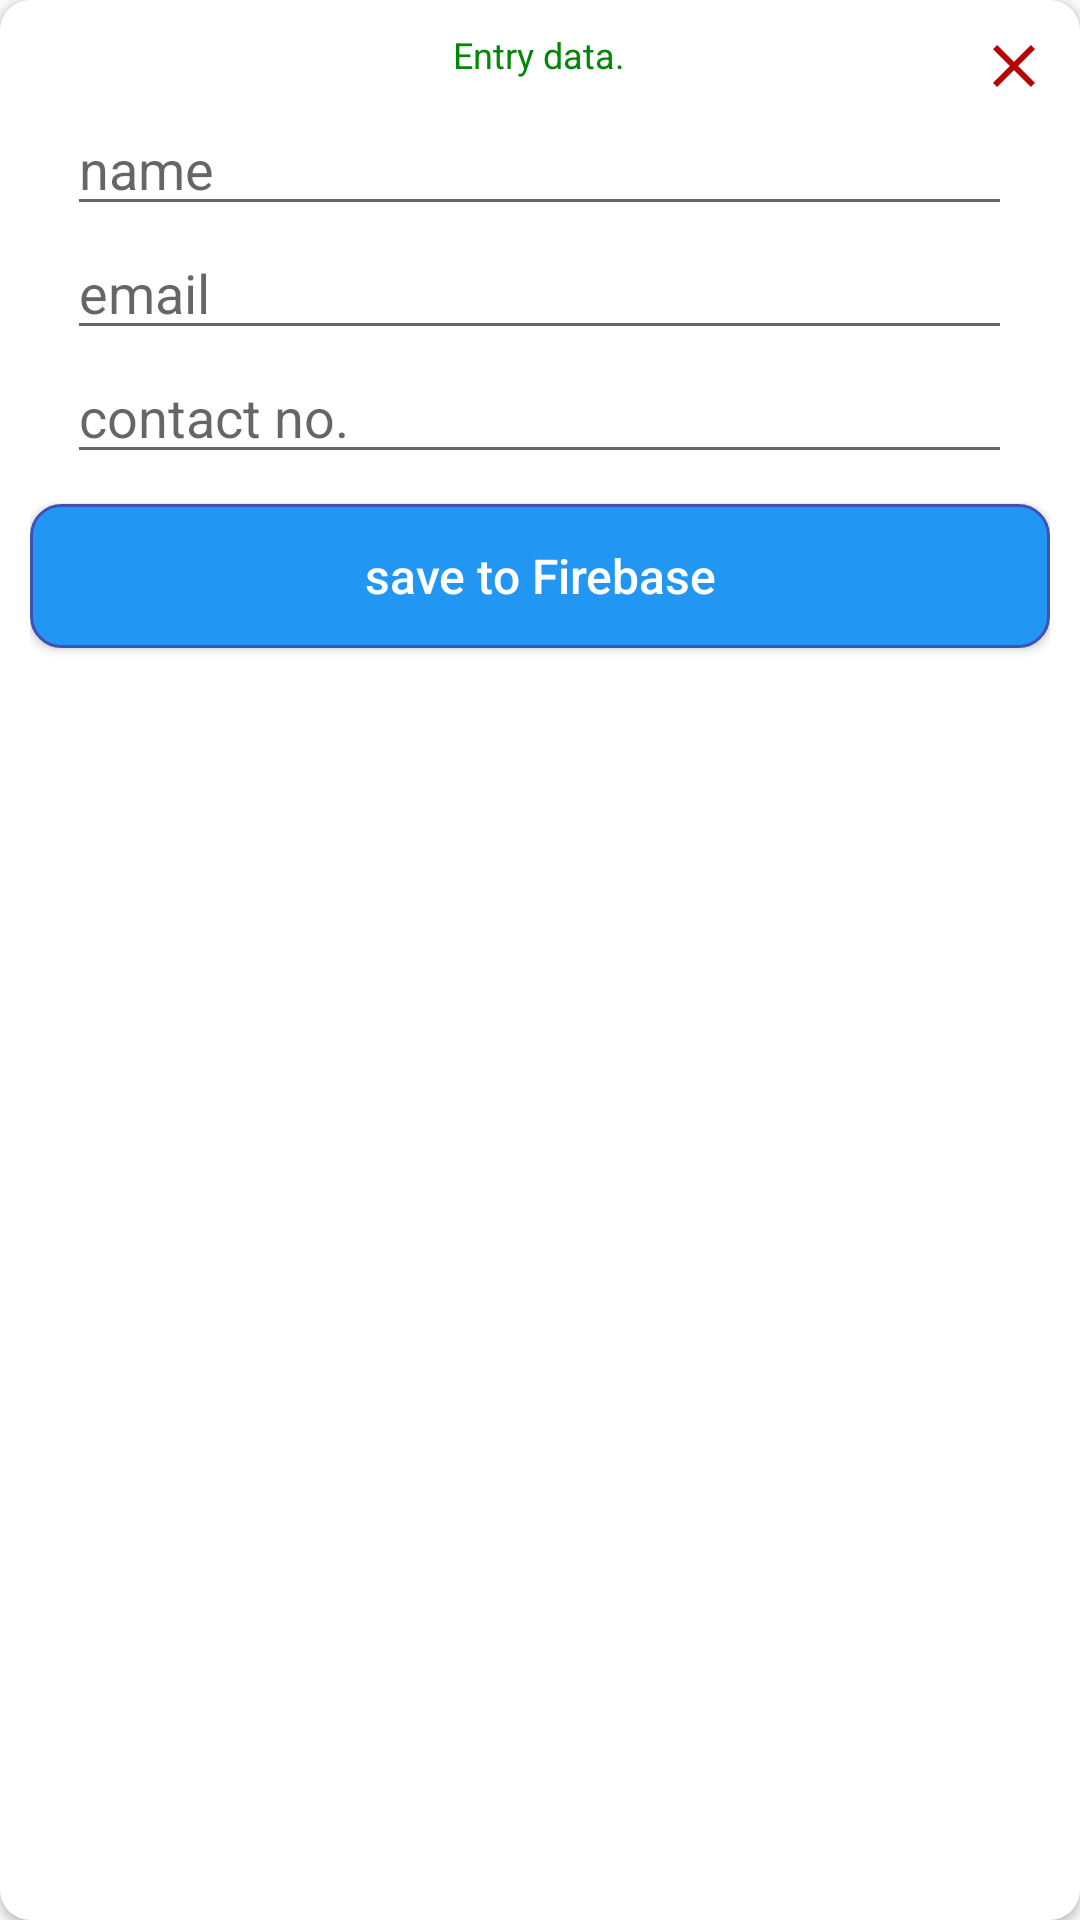

Point at icon controls on the screen. Image size 1080px×1920px, points as [x,y].
close: [1014,66]
